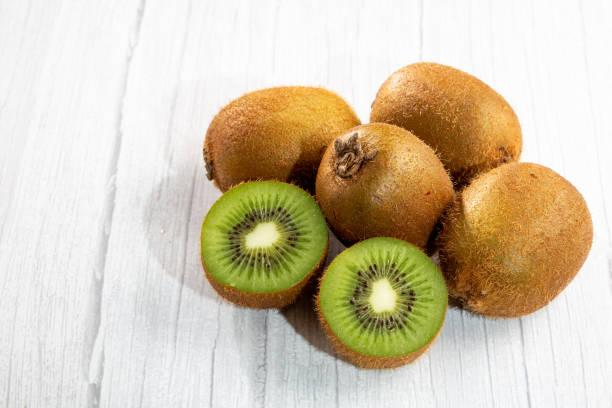kiwi: (445, 161, 590, 329), (316, 231, 448, 387), (309, 119, 455, 253), (187, 176, 333, 309), (371, 49, 531, 168), (178, 70, 346, 182)
